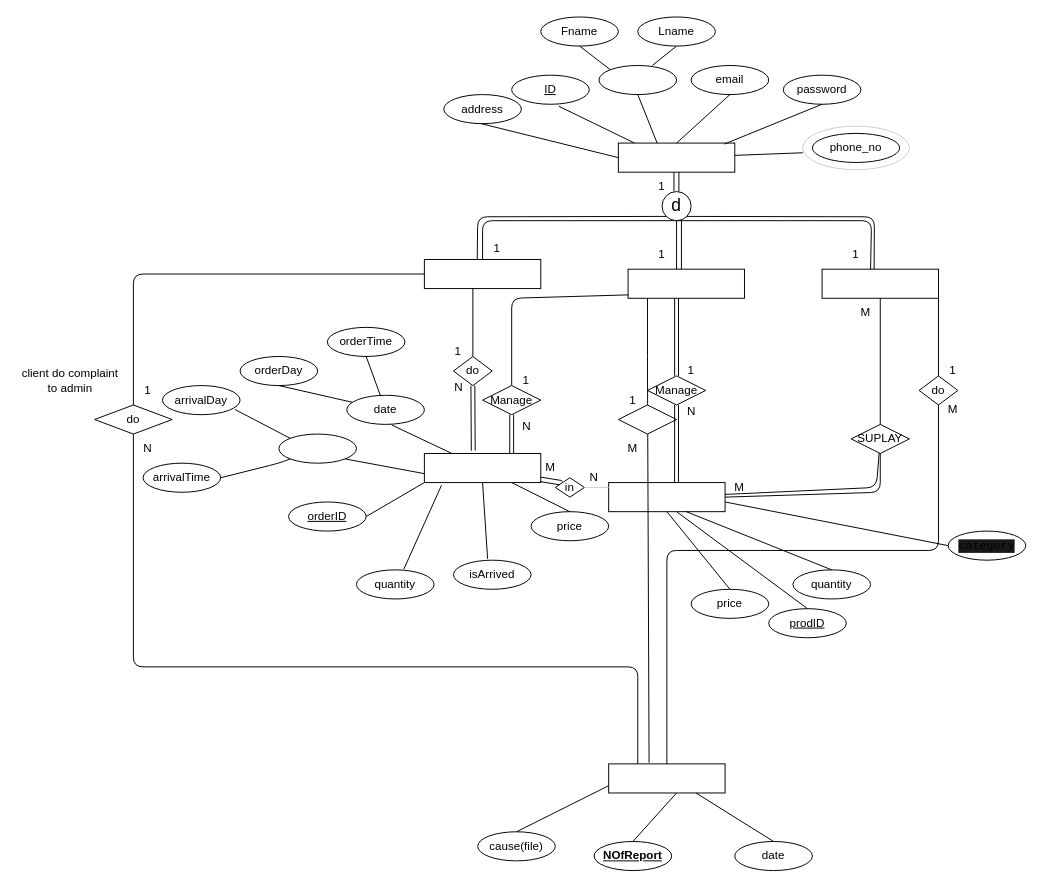
The diagram is 1043 pixels wide and 888 high, and some of its shapes have lost their labels. Each missing label, with the centre of its shape:
ADMIN: (685,283)
analyze: (647,419)
arrivalDate: (317,448)
CLIENT: (482,274)
Complaints: (666,778)
name: (637,80)
order: (482,468)
PERSON: (676,157)
PORDUCT: (666,497)
SUPPLIER: (879,283)
